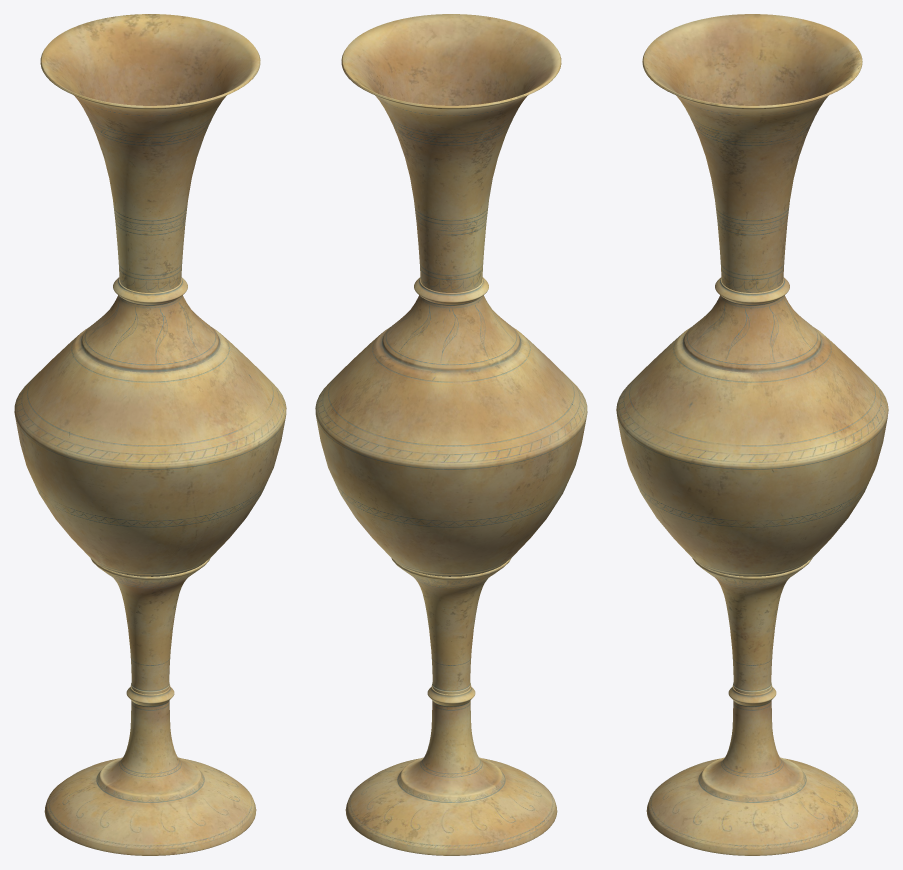
The model's file is vase.obj.
3 renders of one model, left to right at view 1: azimuth 30°, elevation 25°; view 2: azimuth 150°, elevation 25°; view 3: azimuth 270°, elevation 25°, orthographic.
Visible parts, largest first — view 1: brass_vase_01_Circle.001; view 2: brass_vase_01_Circle.001; view 3: brass_vase_01_Circle.001.
Part boxes in pixels (<box>): brass_vase_01_Circle.001: <box>14,14,286,855</box>; brass_vase_01_Circle.001: <box>315,14,587,855</box>; brass_vase_01_Circle.001: <box>616,14,888,855</box>.
Size of the model in its own units: 3.41 by 10.39 by 3.41.
